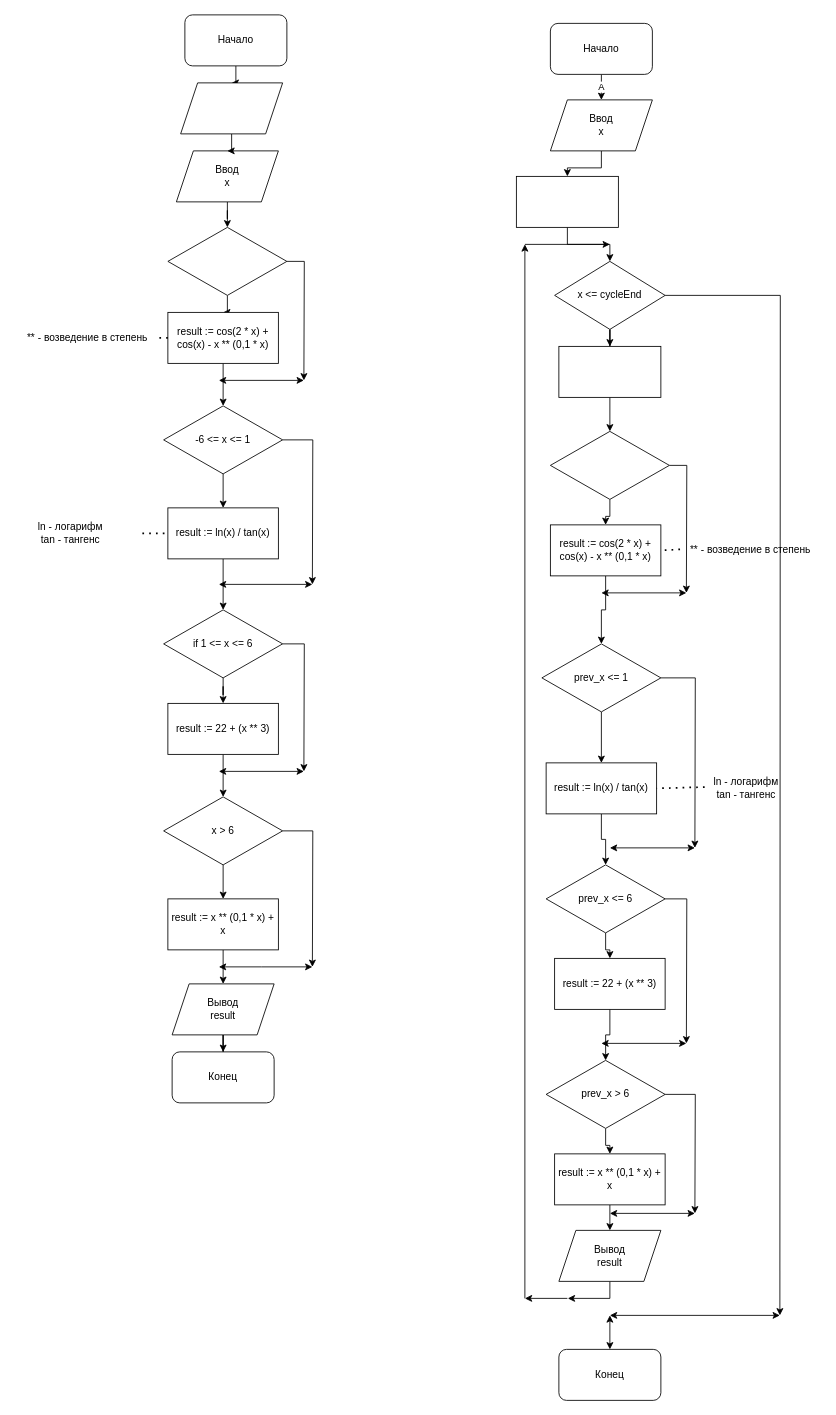
This 836x1415 diagram has some shape labels left out. The centre of each missing label's shape, as x and y in pixels:
prev_x := x cycleEnd := 8 x := -8: (x=567, y=201)
prev_x < -6: (x=609, y=465)
x := x - 0.3: (x=609, y=371)
x < -6: (x=227, y=261)
Вывод "Введите значение x:": (x=231, y=108)
